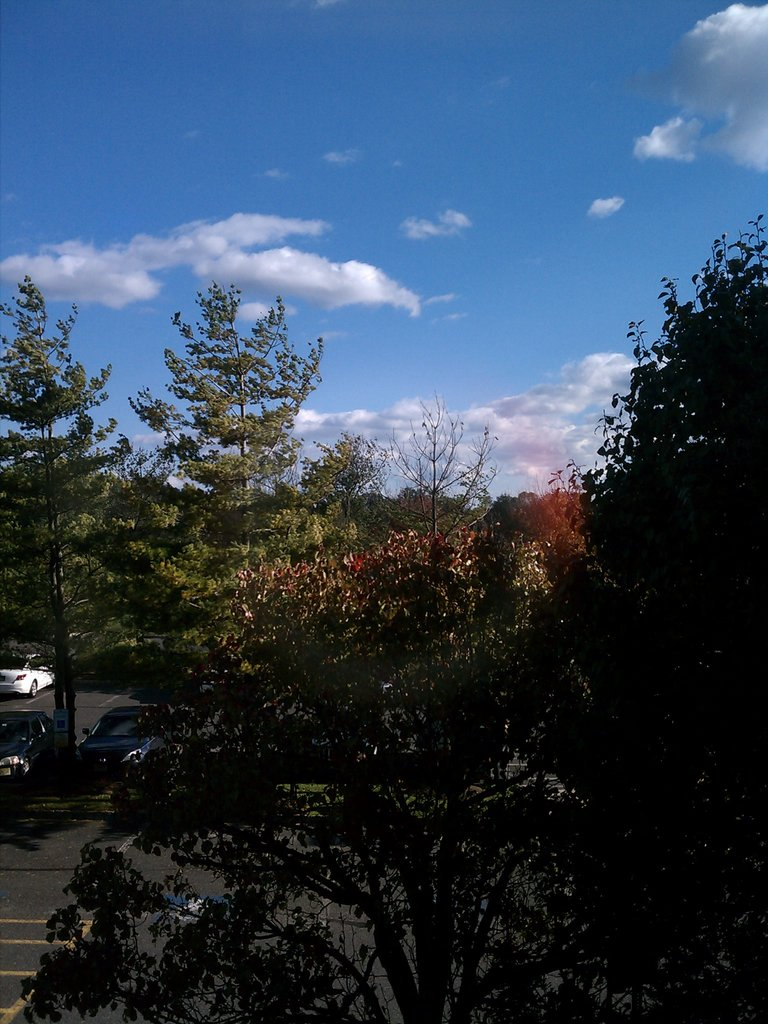Tree: (28, 516, 612, 1008), (526, 210, 767, 1023), (119, 257, 343, 670), (0, 270, 150, 800)
